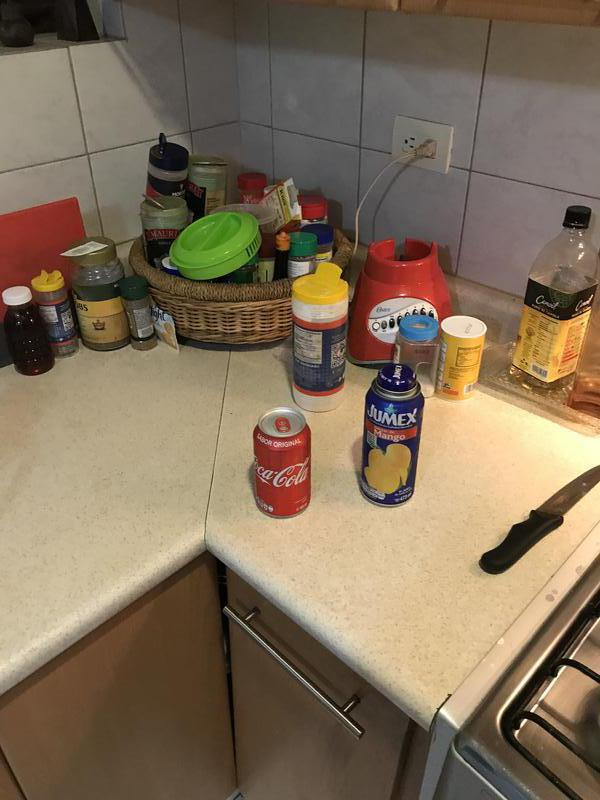coca_cola: (252, 407, 314, 518)
jugo_jumex: (362, 362, 427, 508)
